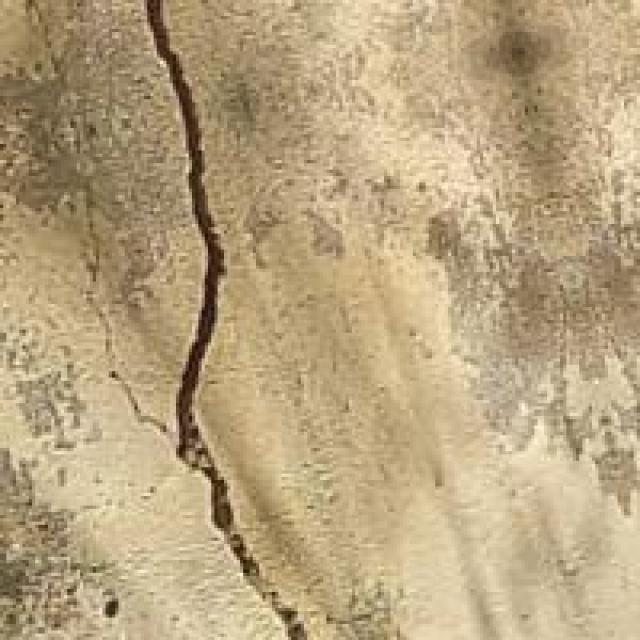crack: (99, 0, 371, 637)
